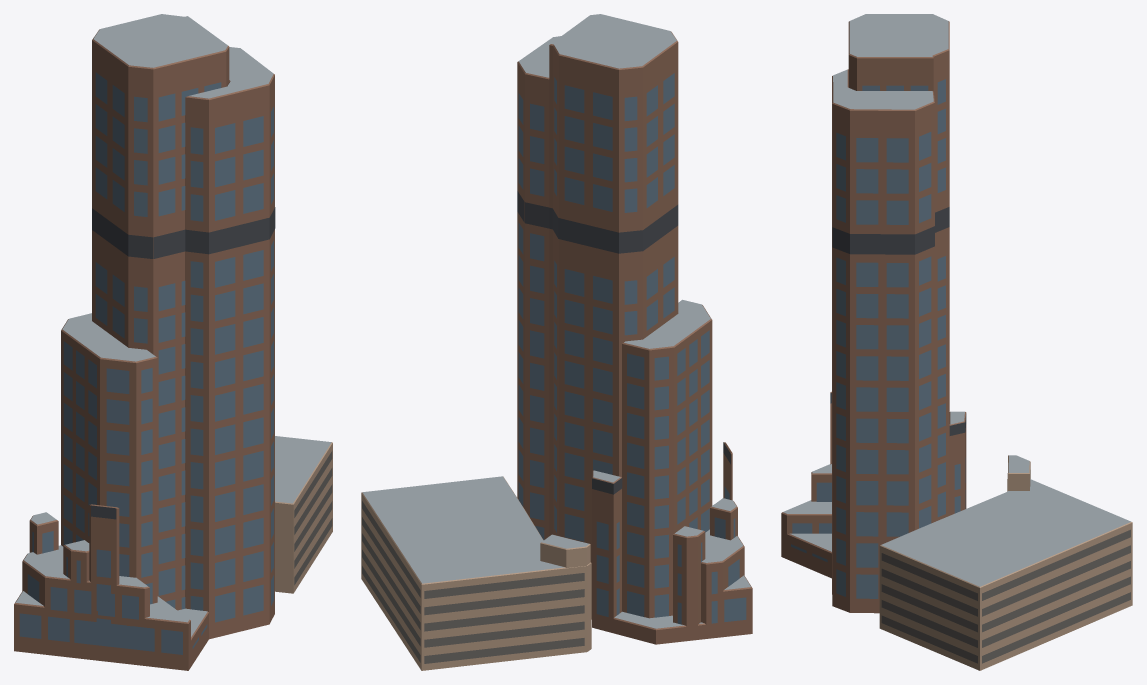
Rendered from den-1801-california.glb.
3 views of the same model, side by side, from view 1: azimuth 30°, elevation 25°; view 2: azimuth 150°, elevation 25°; view 3: azimuth 270°, elevation 25° (orthographic). The views are drawn at different scales.
Parts seen in each view (by area): view 1: 1801 California Street; view 2: 1801 California Street; view 3: 1801 California Street.
Part boxes in pixels (box(x1,y1,x2,y2)): 1801 California Street: box(14, 14, 332, 670); 1801 California Street: box(361, 14, 752, 670); 1801 California Street: box(781, 14, 1132, 670).
Size of the model in its own units: 142 by 217 by 129.
